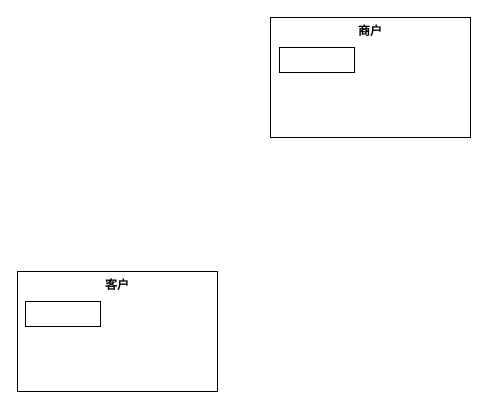
The diagram is 488 pixels wide and 409 high, and some of its shapes have lost their labels. The centre of each missing label's shape, as x and y in pixels:
商户档案: point (316, 59)
客户档案: point (62, 313)
